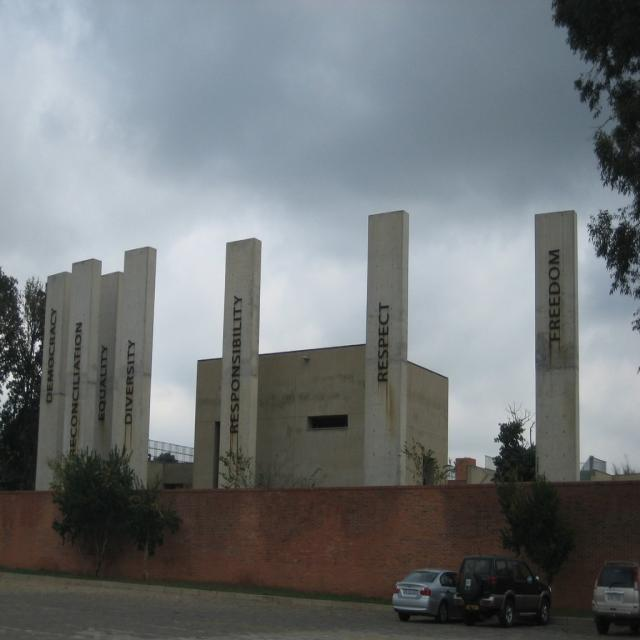car: (450, 544, 550, 624)
